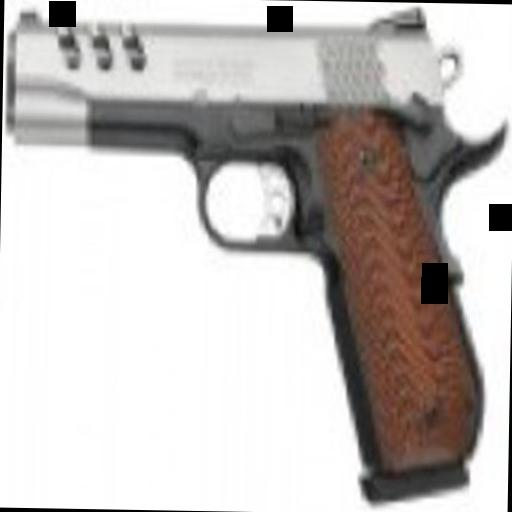Handgun: (0, 3, 489, 485)
